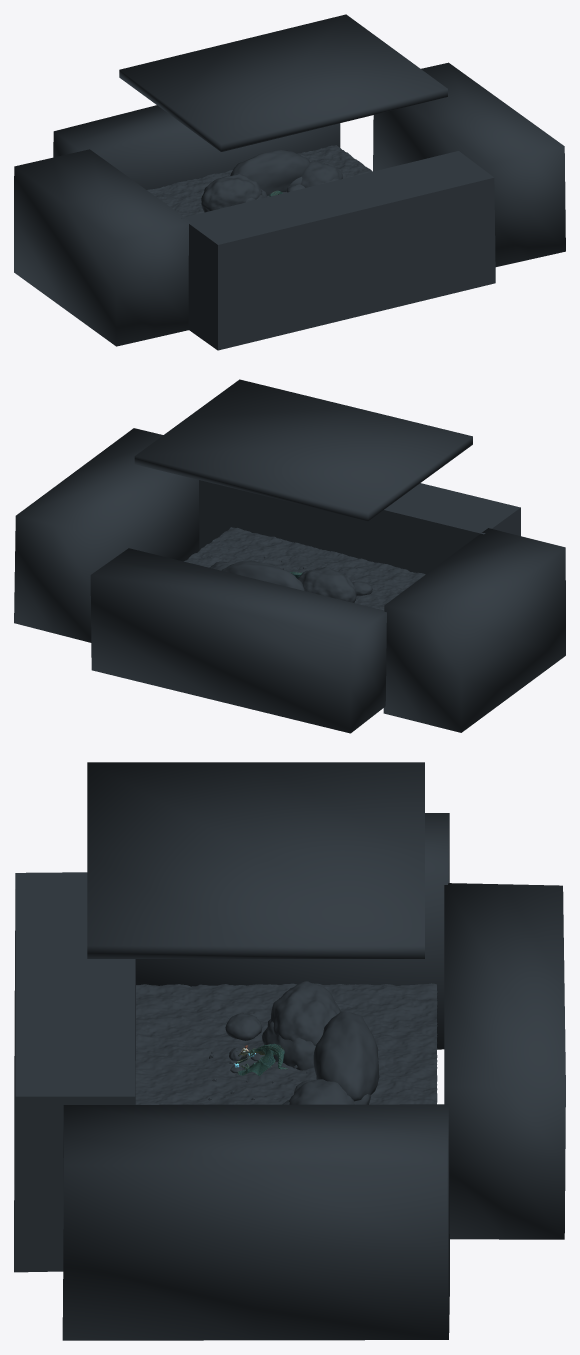
File: cave_dragon.glb
3 renders of one model, top to bottom at view 1: azimuth 30°, elevation 25°; view 2: azimuth 150°, elevation 25°; view 3: azimuth 270°, elevation 25°, orthographic. The views are drawn at different scales.
Visible parts, largest first — view 1: Cave front wall behind camera web, Cave left wall web, Cave ceiling web, Cave right wall web, Cave rear wall web, Cave rock floor web, Upper rear rock ceiling web, Upper left cave wall web, Right rear rock mass web; view 2: Cave rear wall web, Cave left wall web, Cave ceiling web, Cave right wall web, Cave front wall behind camera web, Cave rock floor web, Upper left cave wall web, Upper rear rock ceiling web; view 3: Cave right wall web, Cave ceiling web, Cave rear wall web, Cave front wall behind camera web, Cave rock floor web, Cave left wall web, Upper rear rock ceiling web, Upper left cave wall web, Right rear rock mass web, Left rock slope web, Mesh_0 web, Boulder 4 web.
Part boxes in pixels (<box>): Cave front wall behind camera web: <box>181,151,495,350</box>; Cave left wall web: <box>14,149,191,346</box>; Cave ceiling web: <box>119,14,447,151</box>; Cave right wall web: <box>373,62,565,266</box>; Cave rear wall web: <box>53,105,340,189</box>; Cave rock floor web: <box>147,145,372,217</box>; Upper rear rock ceiling web: <box>230,150,309,195</box>; Upper left cave wall web: <box>201,173,262,212</box>; Right rear rock mass web: <box>301,162,342,187</box>; Cave rear wall web: <box>90,548,386,733</box>; Cave left wall web: <box>383,528,565,732</box>; Cave ceiling web: <box>134,379,472,520</box>; Cave right wall web: <box>14,428,199,642</box>; Cave front wall behind camera web: <box>199,480,520,574</box>; Cave rock floor web: <box>184,527,425,610</box>; Upper left cave wall web: <box>297,566,356,602</box>; Upper rear rock ceiling web: <box>221,560,304,590</box>; Cave right wall web: <box>62,1104,449,1340</box>; Cave ceiling web: <box>87,762,424,958</box>; Cave rear wall web: <box>444,883,565,1239</box>; Cave front wall behind camera web: <box>14,872,135,1272</box>; Cave rock floor web: <box>135,983,437,1104</box>; Cave left wall web: <box>136,813,449,1049</box>; Upper rear rock ceiling web: <box>313,1011,379,1101</box>; Upper left cave wall web: <box>270,981,340,1045</box>; Right rear rock mass web: <box>289,1079,354,1104</box>; Left rock slope web: <box>262,1019,315,1070</box>; Mesh_0 web: <box>236,1043,287,1075</box>; Boulder 4 web: <box>225,1013,262,1040</box>.
Size of the model in its own units: 69.08 by 28.01 by 45.74.
9 materials, 1 textured.
